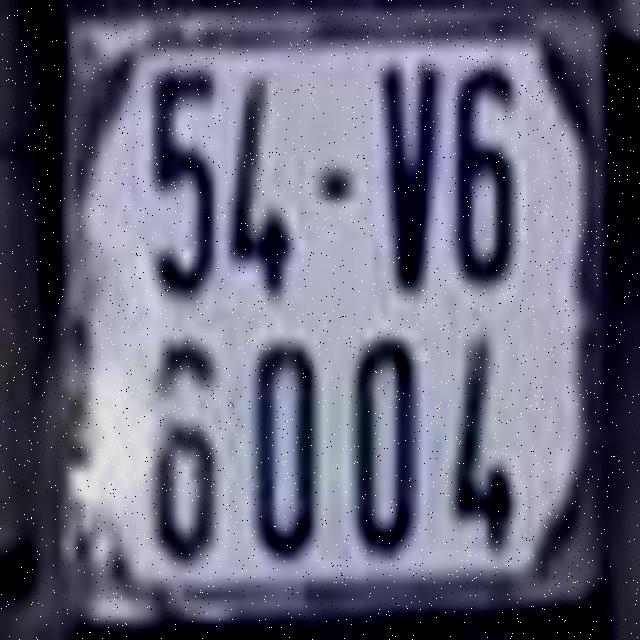0: (350, 332, 422, 555), (250, 336, 318, 559)
4: (448, 330, 522, 556), (227, 71, 296, 300)
5: (147, 65, 218, 298)
6: (450, 63, 521, 287), (152, 338, 221, 563)
V: (374, 57, 445, 294)
